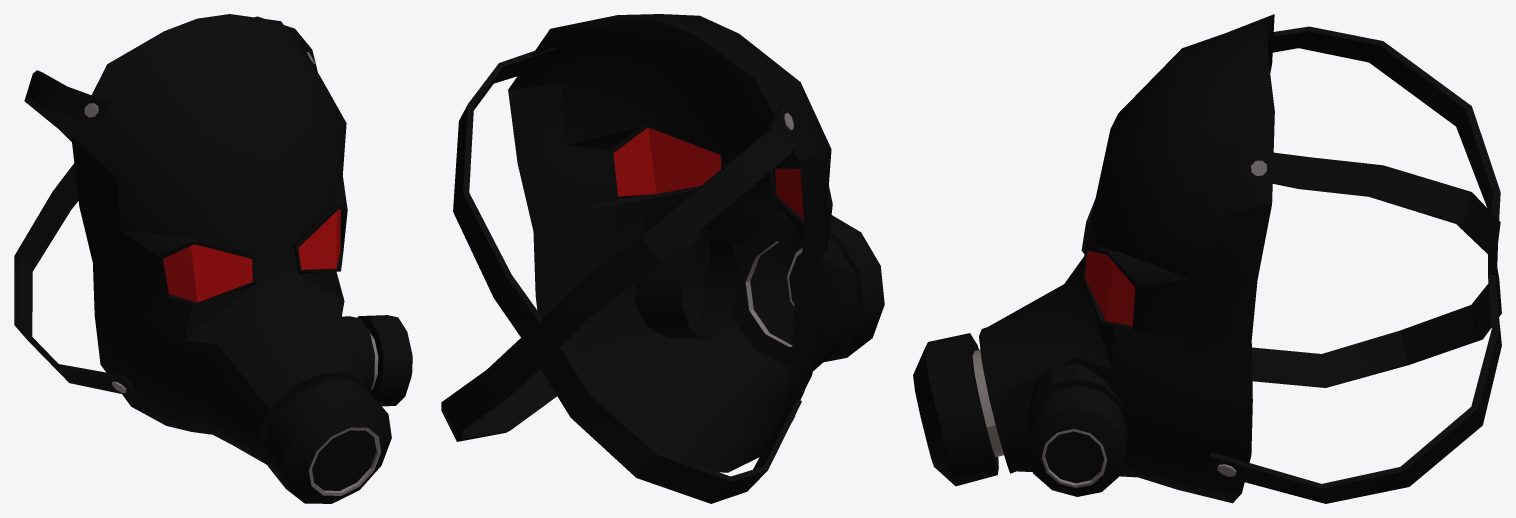
File: Mask.FBX
3 renders of one model, left to right at view 1: azimuth 30°, elevation 25°; view 2: azimuth 150°, elevation 25°; view 3: azimuth 270°, elevation 25°, orthographic. The views are drawn at different scales.
Visible parts, largest first — view 1: Cylinder001; view 2: Cylinder001; view 3: Cylinder001.
Boxes of the visible parts, bbox=[...] form: Cylinder001: bbox=[14, 14, 412, 503]; Cylinder001: bbox=[441, 14, 884, 503]; Cylinder001: bbox=[913, 14, 1501, 503].
Bounding box in the file's own units: 27.96 × 41 × 47.95.
